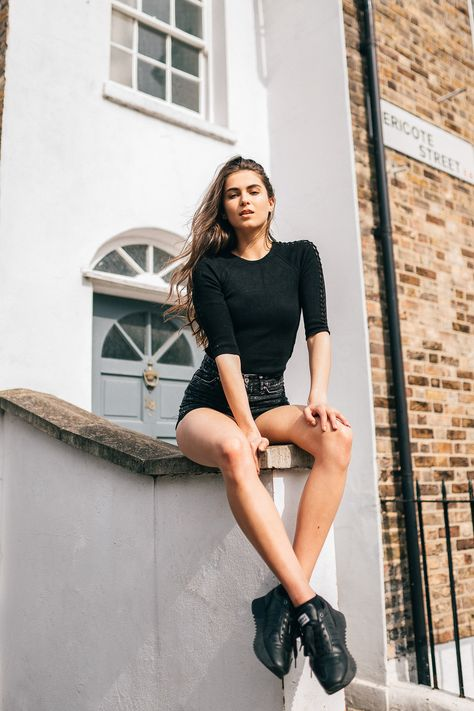person: (159, 147, 376, 705)
